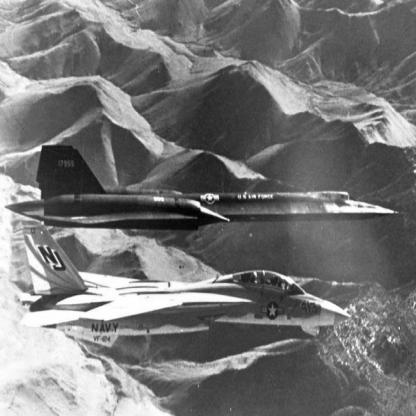F14: (19, 221, 352, 349)
SR71: (5, 146, 404, 232)
